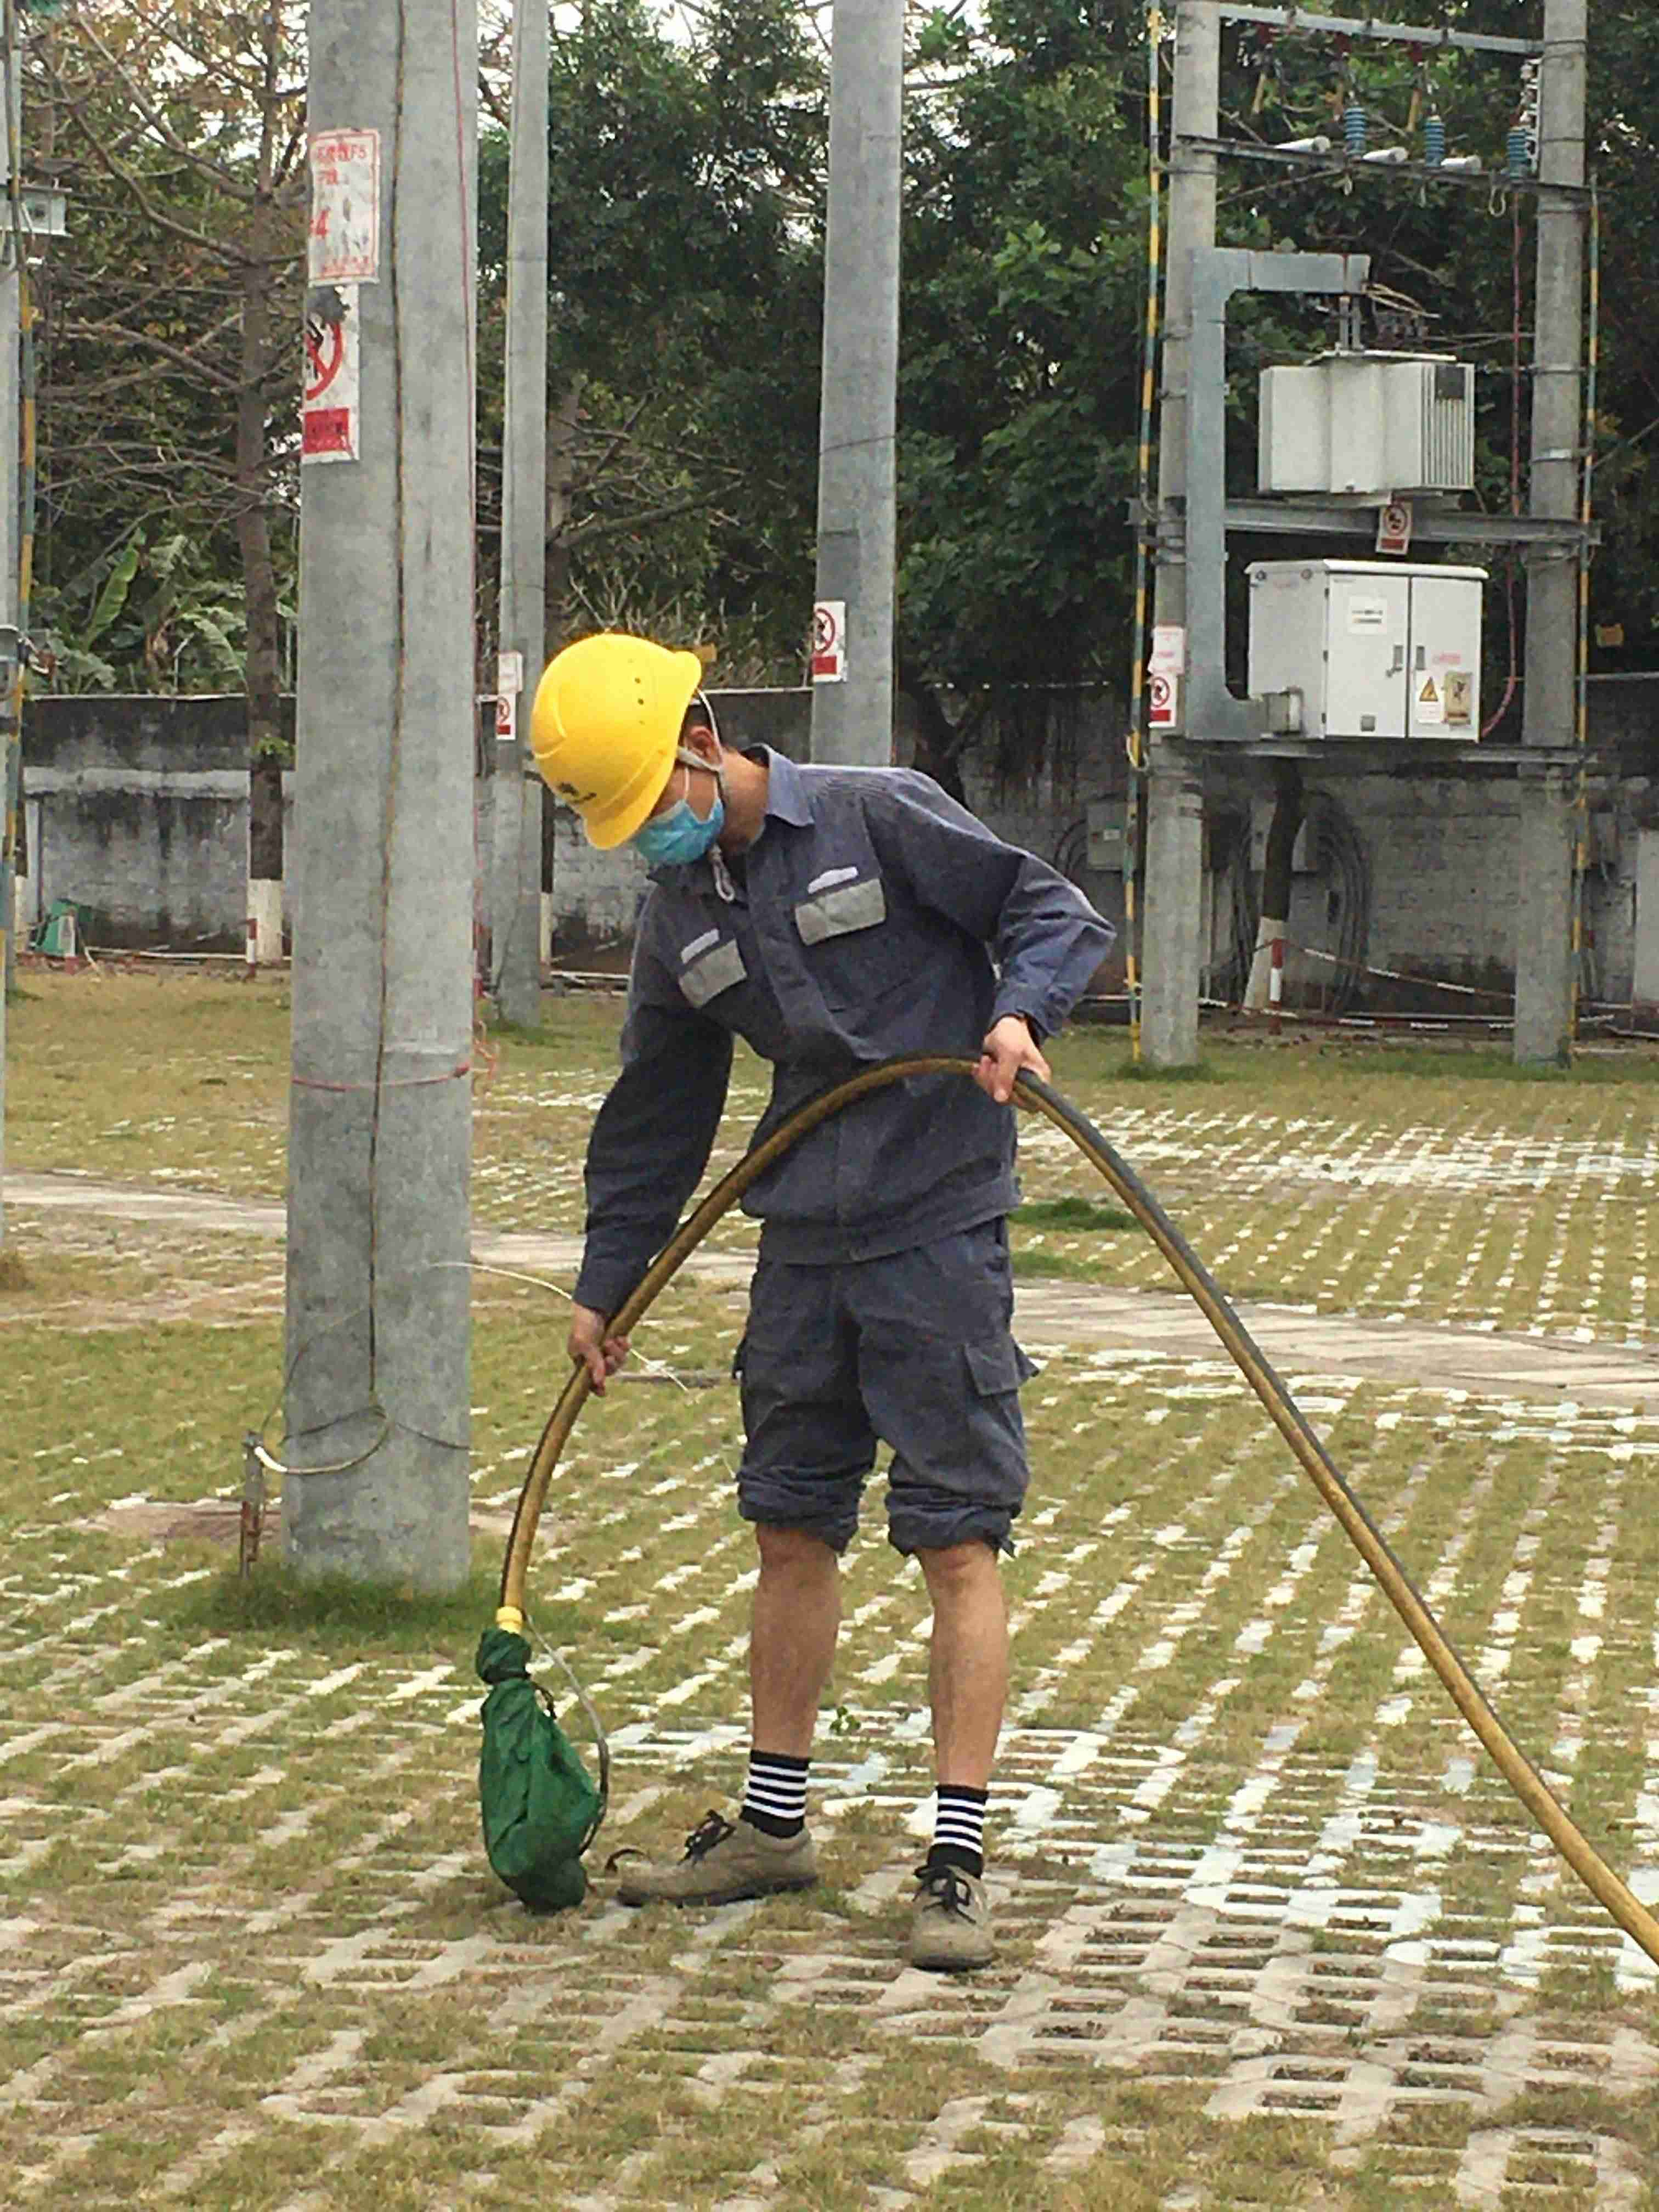downsuit: (728, 1233, 1033, 1564)
upsuit: (579, 745, 1126, 1261)
wrongbottom: (728, 1477, 1026, 1803)
